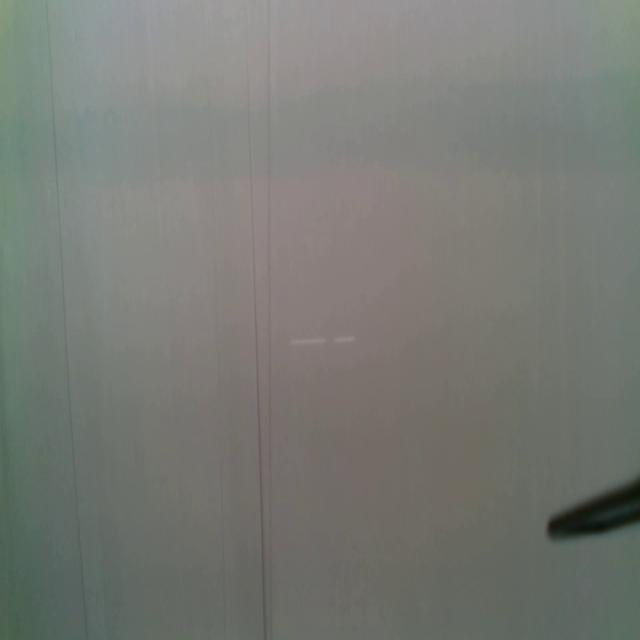color bleeding: (1, 71, 640, 186)
crease: (44, 0, 91, 640), (243, 0, 274, 640)
